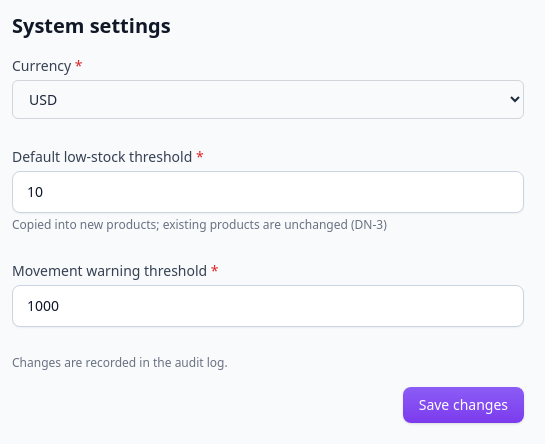
Scenario: Settings page (F11) › rejects an out-of-range warning threshold inline
Replace the text in the field labelled "Movement warning threshold *" with "0". click: [268, 306]
box: [12,285,524,327]
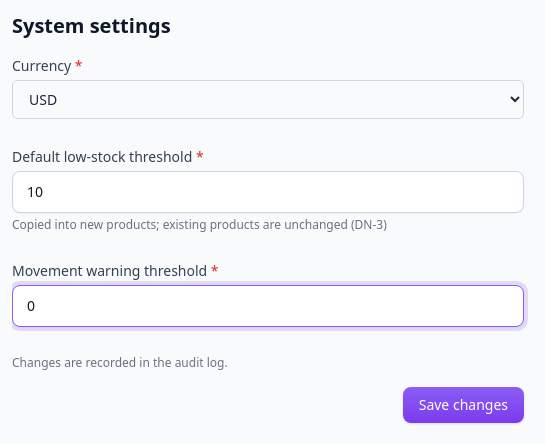
Click the button "Save changes". click: [463, 405]
box: [403,387,524,423]
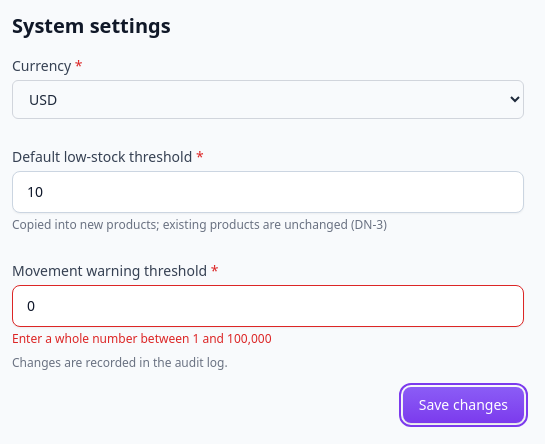
Check: the text "Enter a whole number between 1 and 100,000" is shown, box [12,330,272,347]
